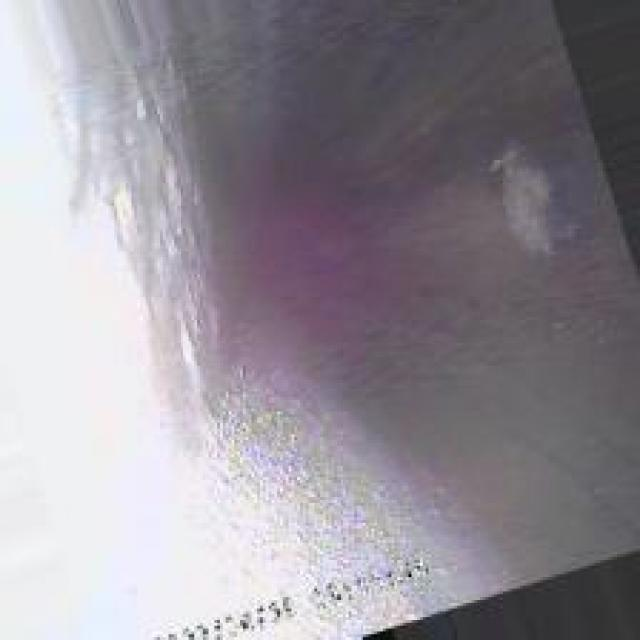ferrule: (483, 140, 586, 254)
